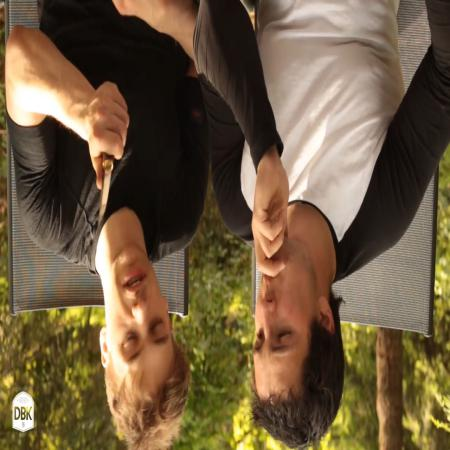long weapon: (85, 105, 131, 246)
